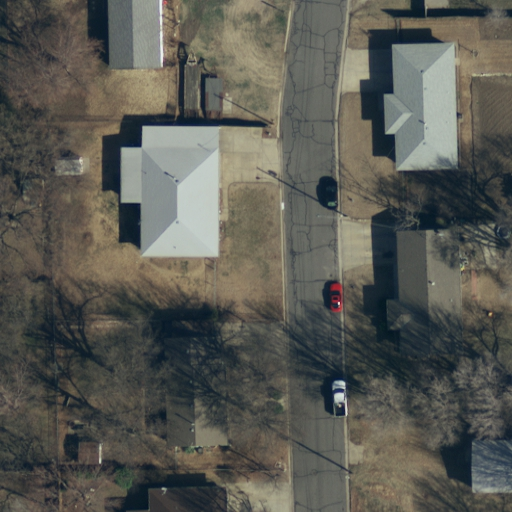DT: (313, 207, 357, 227), (334, 461, 355, 489), (255, 116, 280, 133)
